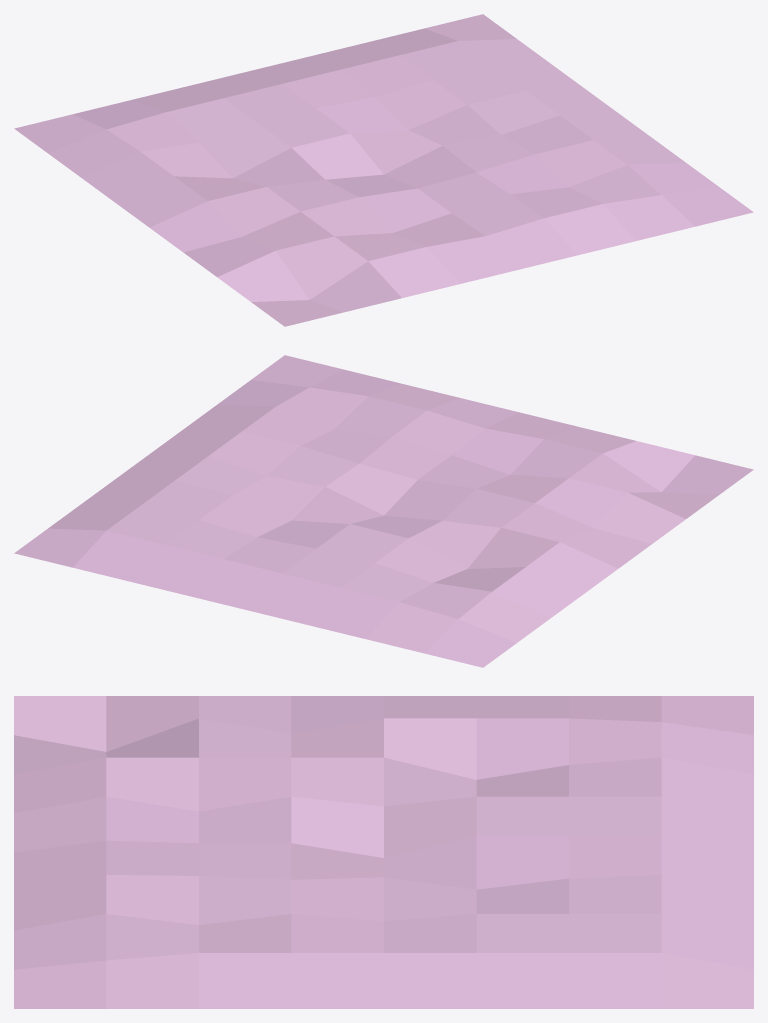
The model's file is floor.fbx.
The picture shows the model from 3 angles, top to bottom: view 1: azimuth 30°, elevation 25°; view 2: azimuth 150°, elevation 25°; view 3: azimuth 270°, elevation 25°; orthographic projection. The views are drawn at different scales.
Visible parts, largest first — view 1: Plane; view 2: Plane; view 3: Plane.
Part boxes in pixels (left/top/right/bottom): Plane: left=14, top=14, right=753, bottom=326; Plane: left=14, top=355, right=753, bottom=667; Plane: left=14, top=696, right=753, bottom=1008.
Size of the model in its own units: 1 by 0.05 by 1.
